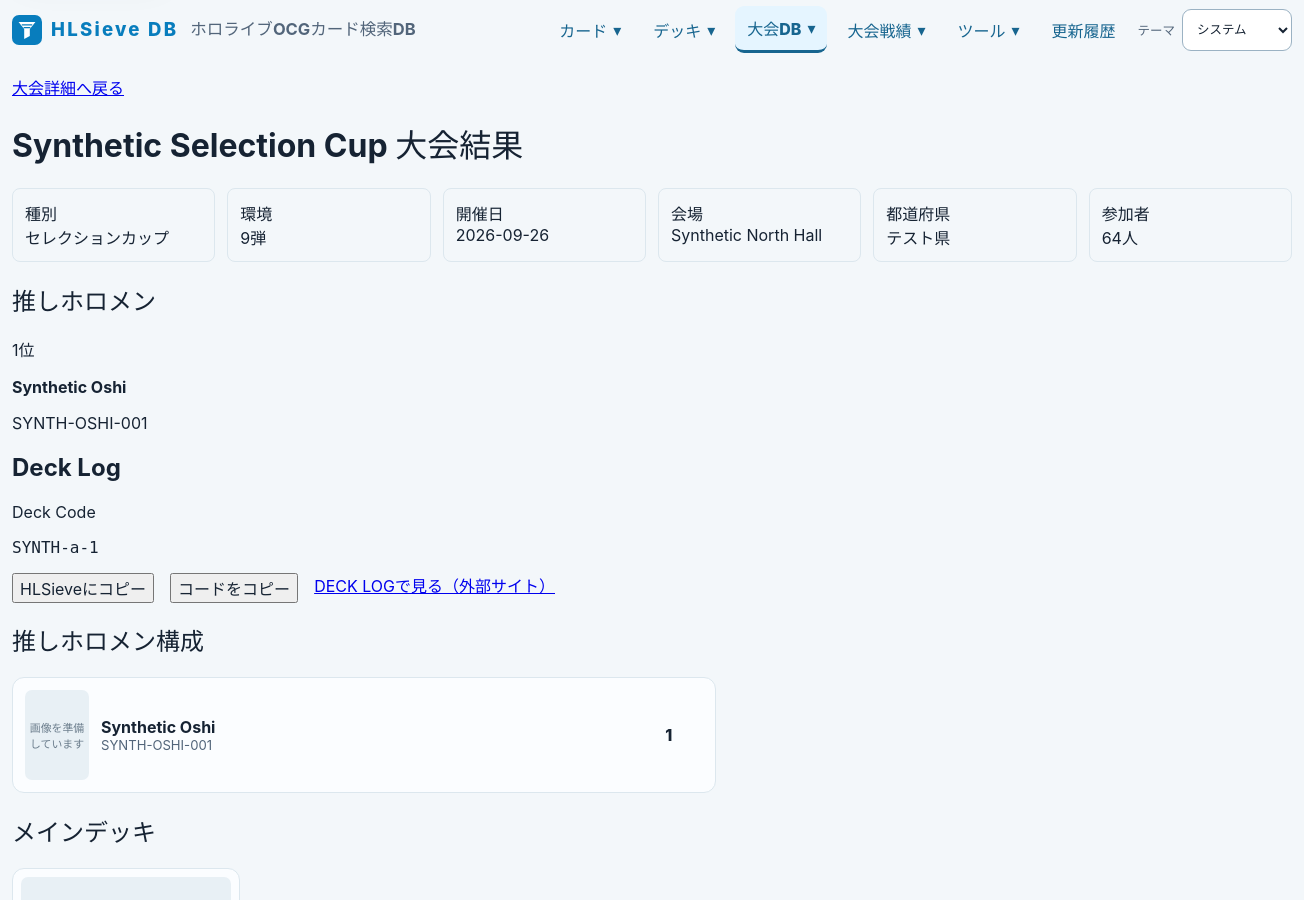
Tournament Result detail › copies only the Deck Code and reports success and failure
What coordinates should you click on to do the following:
click the button "コードをコピー"
I would click on:
 (234, 588)
Its box is x1=170 y1=572 x2=298 y2=602.
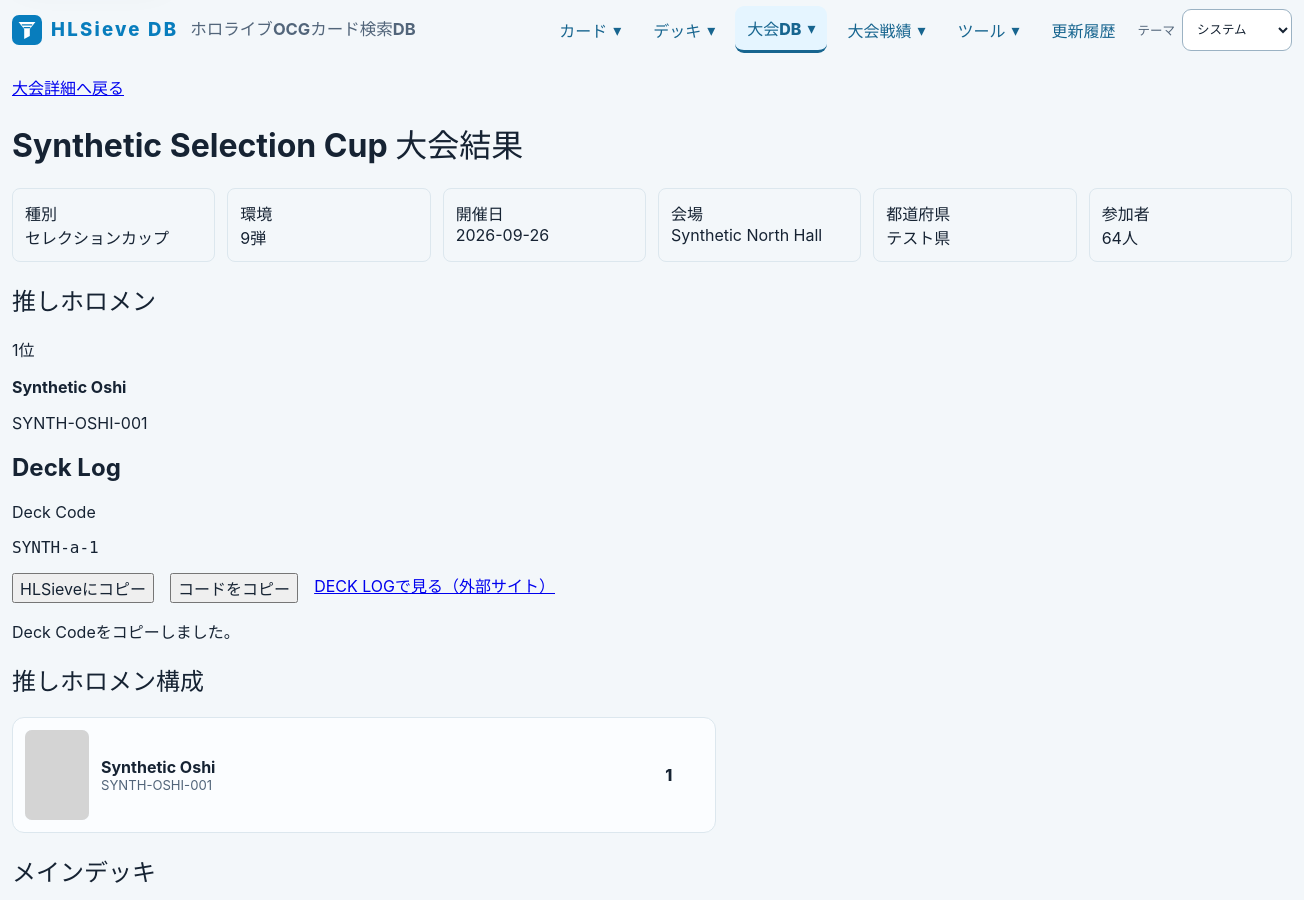
Expected: the text "Deck Codeをコピーしました。" is shown, x1=12 y1=622 x2=240 y2=642
What coordinates should you click on to do the following:
click the button "コードをコピー"
I would click on:
 (234, 588)
Its box is x1=170 y1=572 x2=298 y2=602.
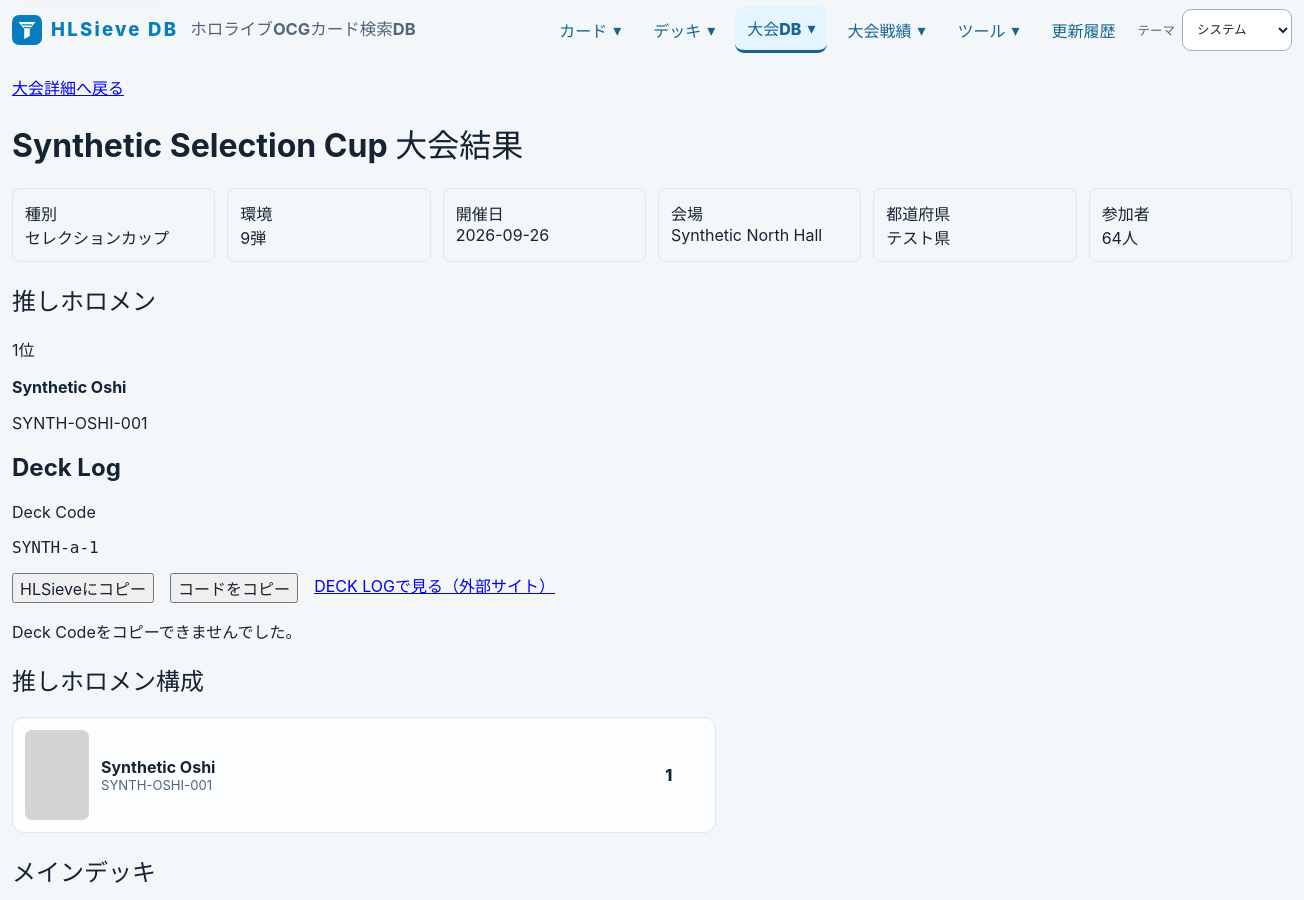
Expected: the message shows "コピーできませんでした", x1=12 y1=622 x2=302 y2=642
